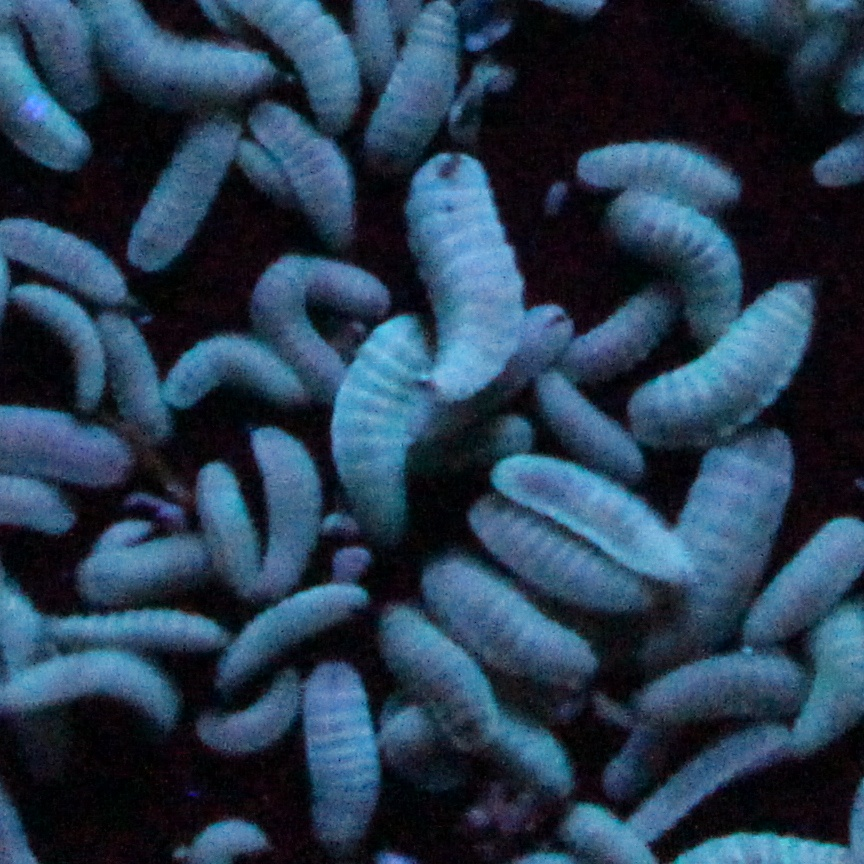larve: (637, 433, 792, 666), (628, 280, 821, 439), (404, 159, 523, 395), (492, 461, 702, 590), (334, 309, 424, 555), (459, 501, 661, 609), (420, 563, 607, 676), (616, 183, 747, 337), (238, 250, 391, 381), (376, 599, 511, 742), (132, 113, 244, 280), (301, 663, 389, 854), (254, 104, 361, 251), (568, 133, 742, 206), (254, 420, 325, 597), (11, 282, 106, 411), (633, 647, 807, 715), (76, 523, 223, 601), (536, 363, 642, 471), (101, 306, 175, 451), (188, 670, 309, 754), (188, 459, 263, 594), (166, 337, 302, 404), (39, 610, 225, 653)
